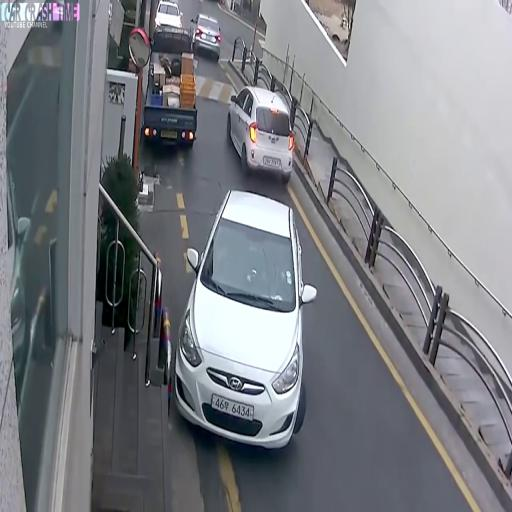小汽车: (176, 190, 305, 450), (143, 22, 197, 154), (224, 83, 296, 178), (191, 8, 221, 62)
